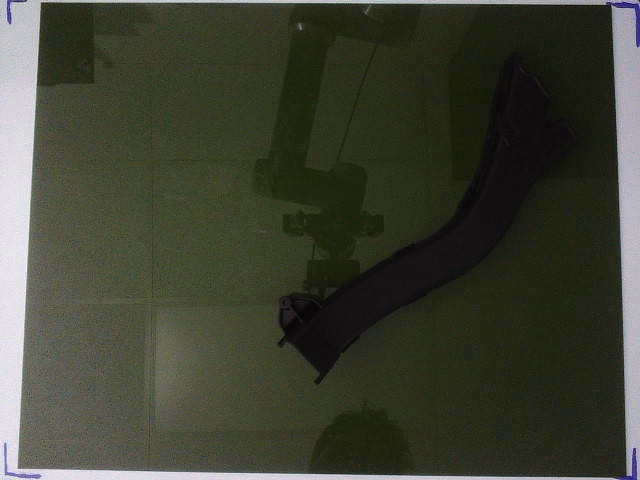887_A-Top: (276, 54, 576, 384)
